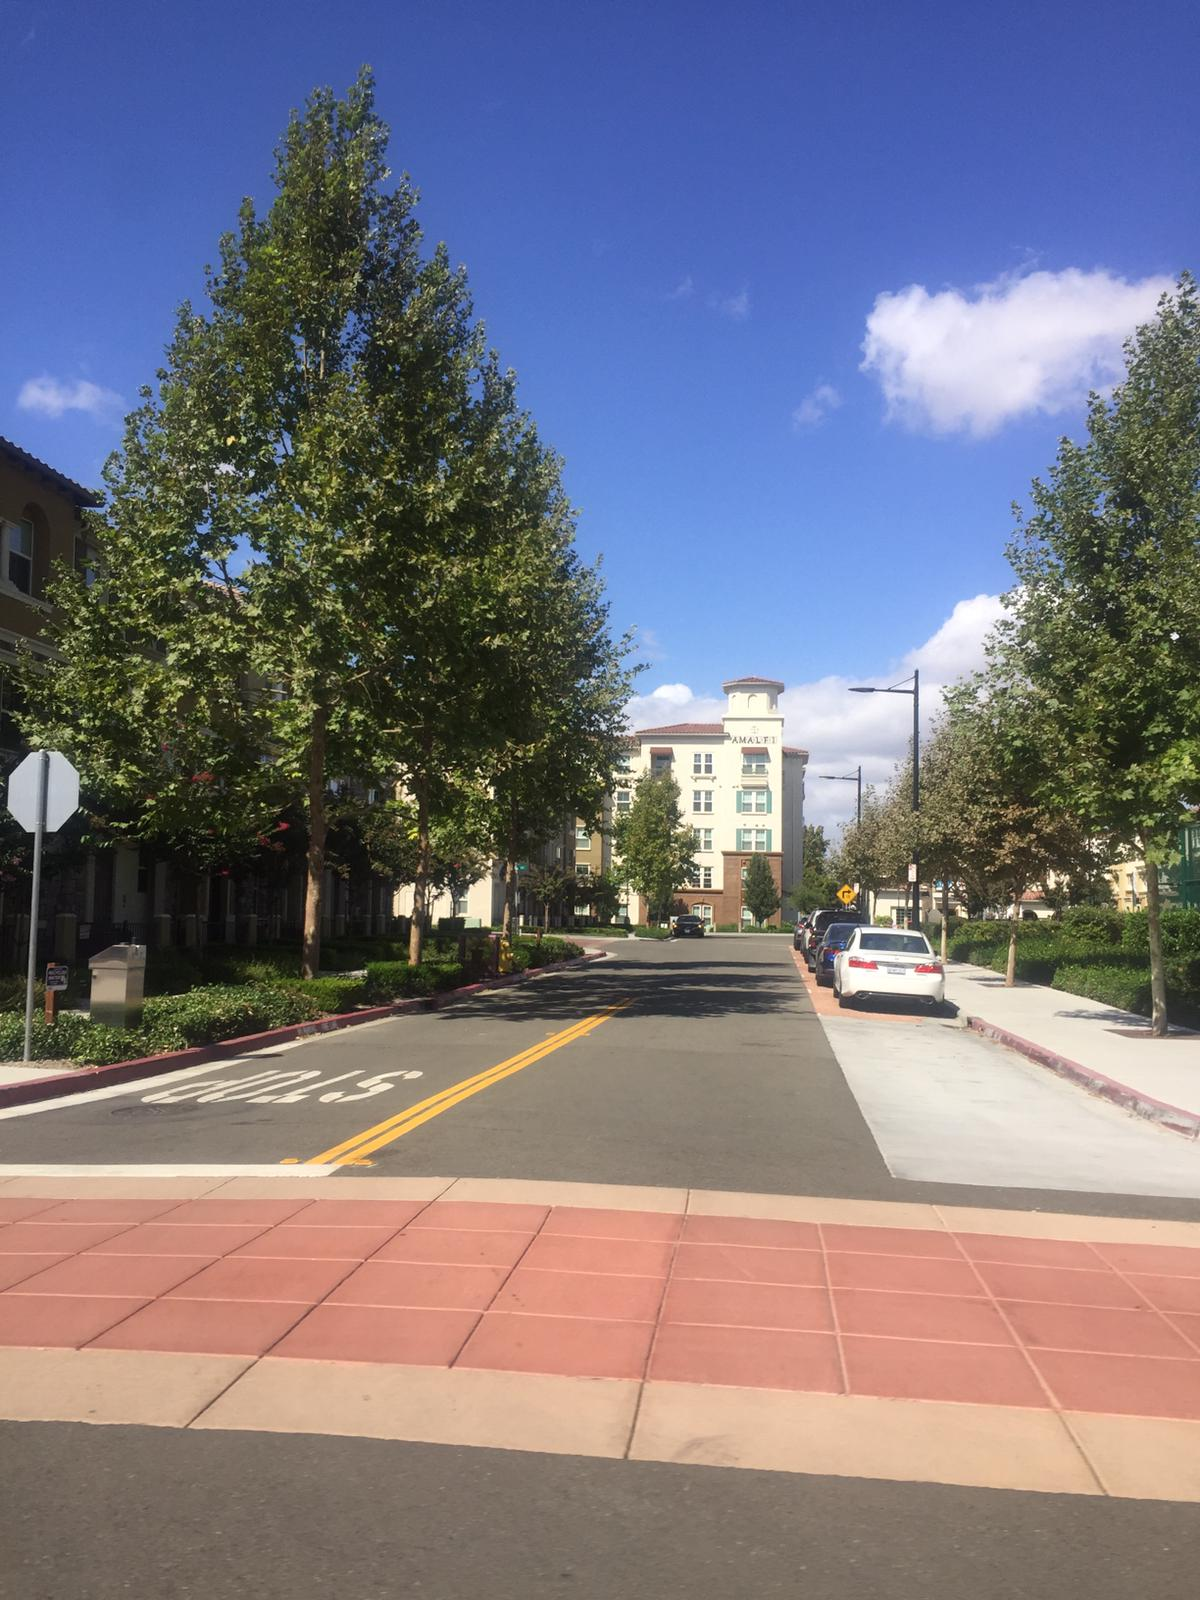plants: (98, 81, 574, 936), (1112, 301, 1200, 1015), (1012, 484, 1105, 968), (929, 670, 998, 908), (629, 750, 684, 944), (739, 864, 776, 934)
